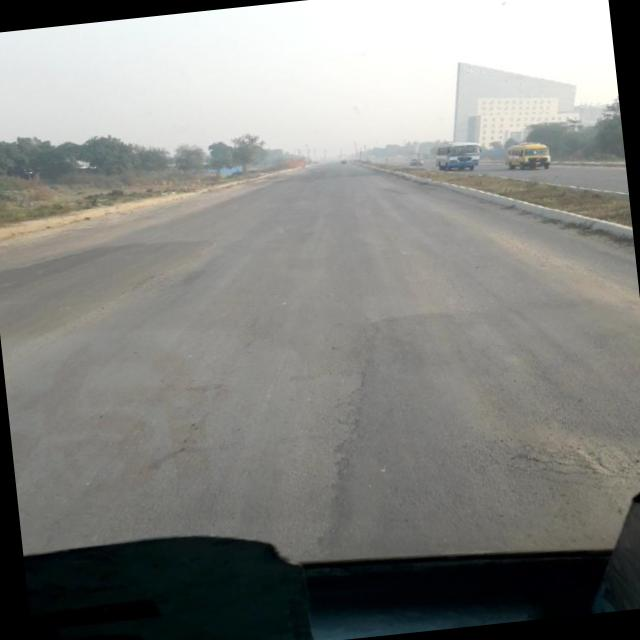crack: (488, 418, 640, 501)
